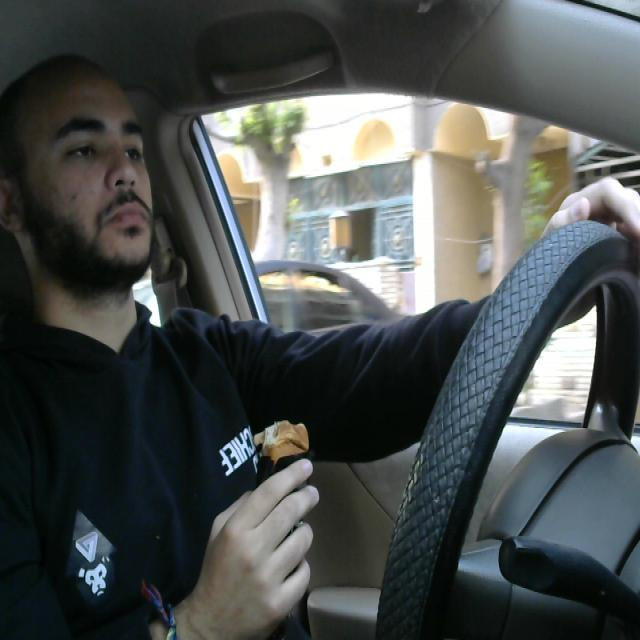eating: (246, 413, 314, 640)
